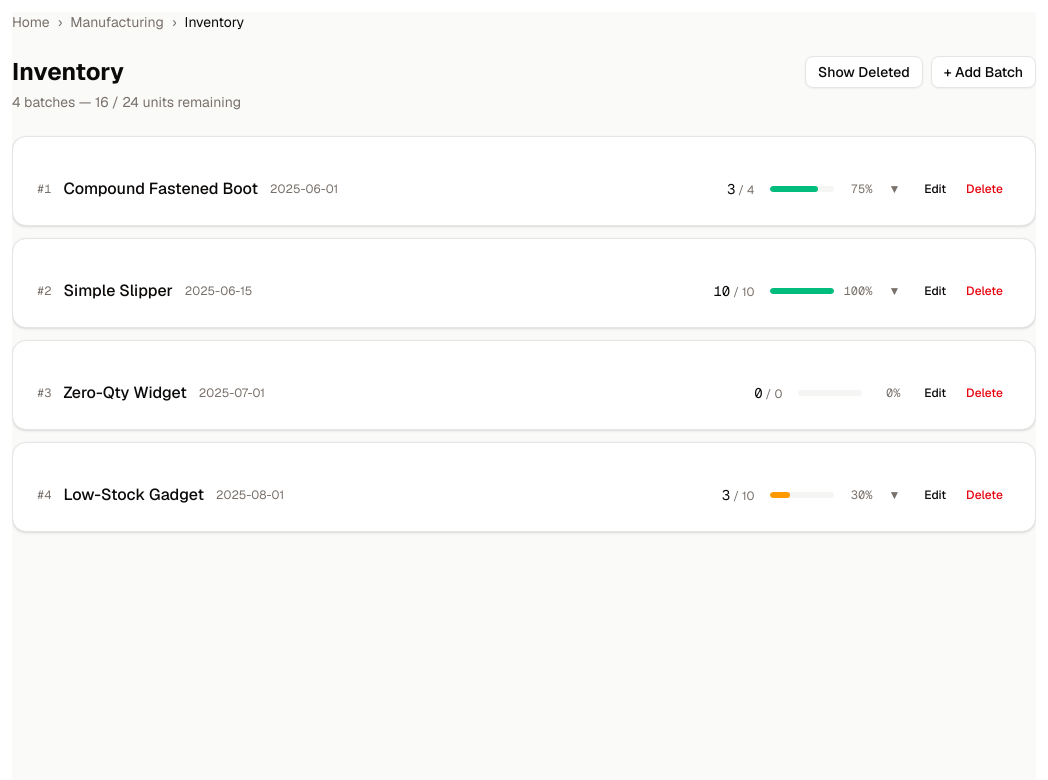
Test: InventoryPage › shows Add Batch button and opens add form
The width and height of the screenshot is (1048, 780).
What coordinates should you click on to do the following:
click the button "+ Add Batch"
I would click on:
 (983, 72)
Its box is [931,56,1036,88].
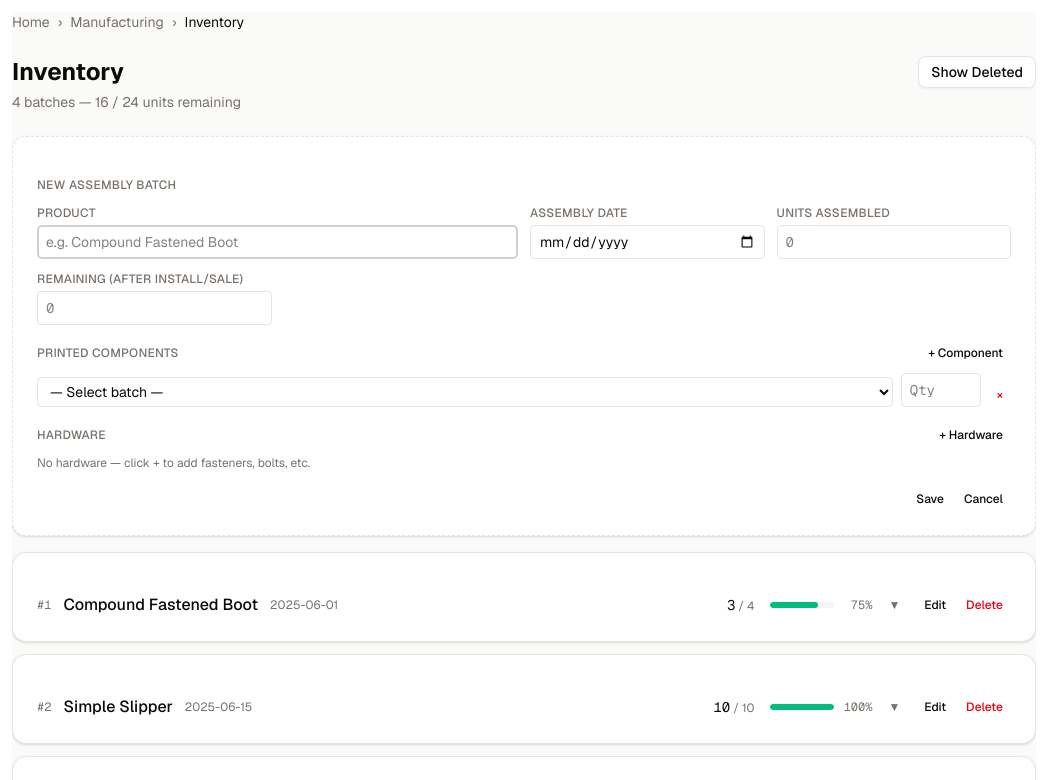
Expected: the text "New Assembly Batch" is shown, [37,177,176,193]
Expected: the text "Product" is shown, [37,205,96,221]
Expected: the text "Assembly Date" is shown, [530,205,628,221]
